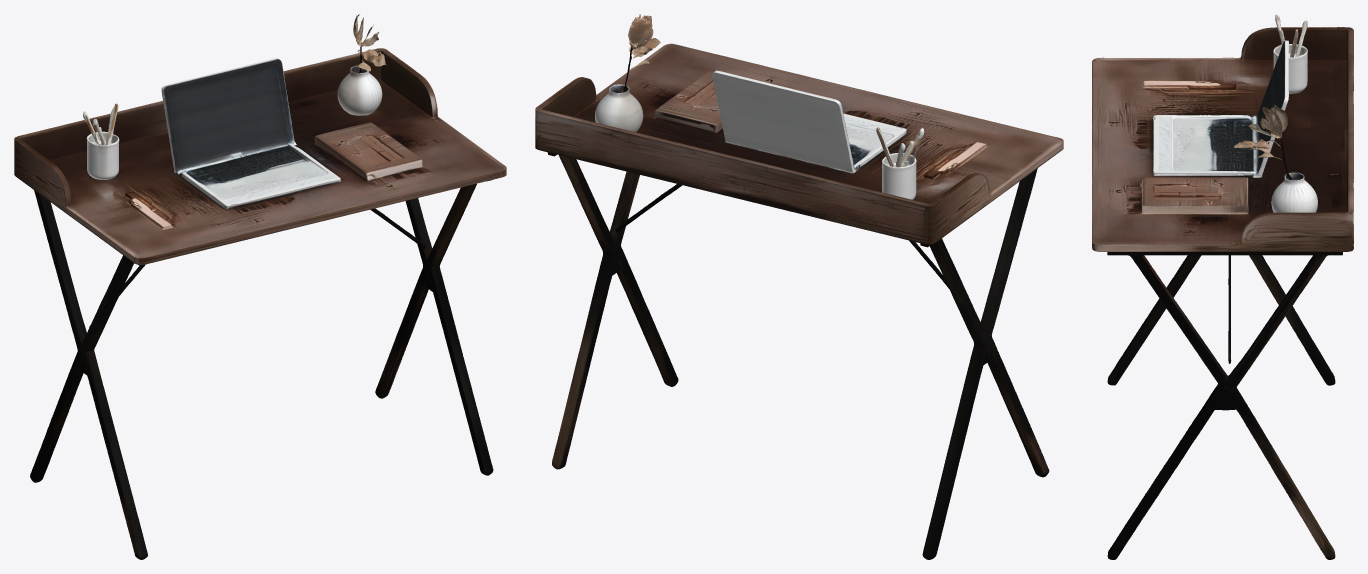
The model's file is jason.glb.
3 renders of one model, left to right at view 1: azimuth 30°, elevation 25°; view 2: azimuth 150°, elevation 25°; view 3: azimuth 270°, elevation 25°, orthographic. The views are drawn at different scales.
Parts seen in each view (by area): view 1: model; view 2: model; view 3: model.
Boxes of the visible parts, box(x1,y1,x2,y2) form: model: box(14, 14, 506, 559); model: box(535, 14, 1063, 559); model: box(1092, 14, 1353, 559).
Bounding box in the file's own units: 1.62 × 1.73 × 0.9531.
1 material, 1 textured.
